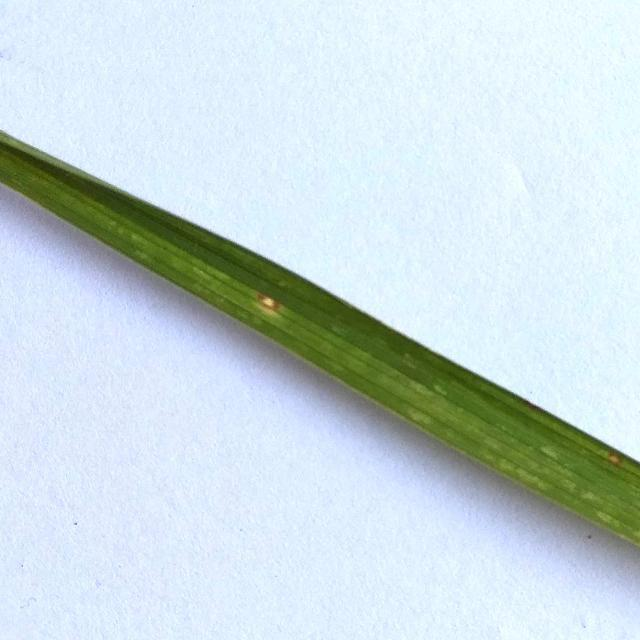Blast: (253, 290, 295, 316), (605, 447, 627, 468)
